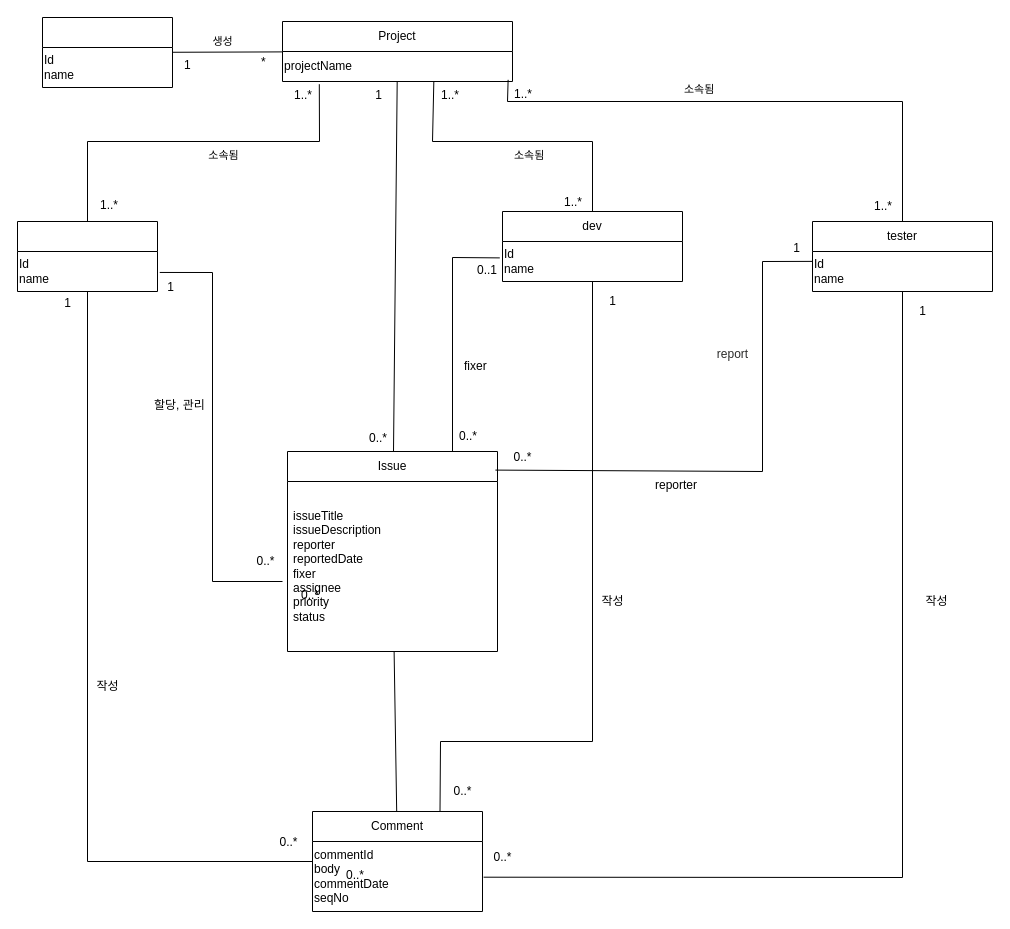
This 1010x929 diagram has some shape labels left out. The box of each missing label's shape, as (x1, y1, x2, y2) in pixels:
Admin: (42, 16, 172, 88)
PL: (16, 220, 158, 292)
